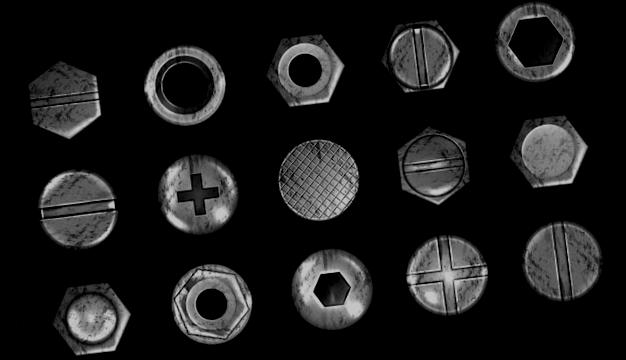hexagonal: (504, 110, 593, 192), (392, 124, 476, 210), (47, 278, 134, 360), (378, 16, 462, 96), (24, 58, 101, 144)
